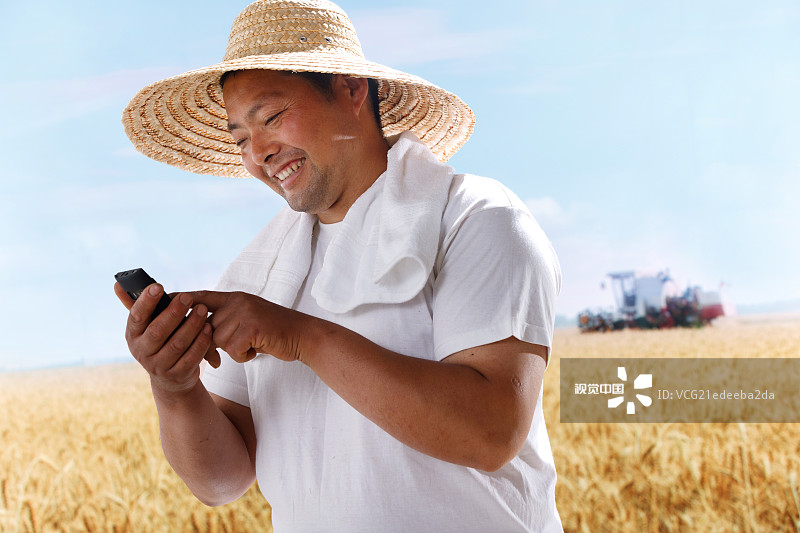reading: (73, 254, 333, 391)
